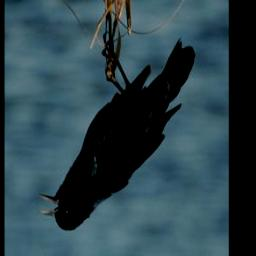Crow: (38, 33, 195, 231)
